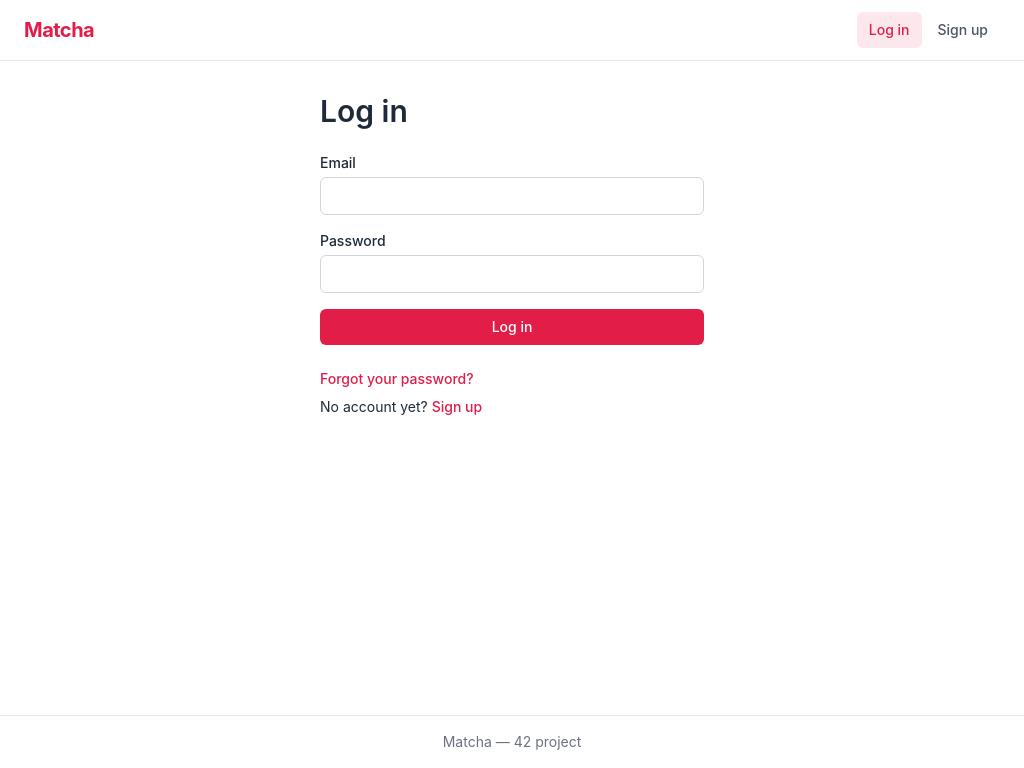
login › shows the backend error "Invalid credentials"
Step 1. Type "alice@example.com" into the field labelled "Email" → (512, 196), box x1=320 y1=177 x2=704 y2=215
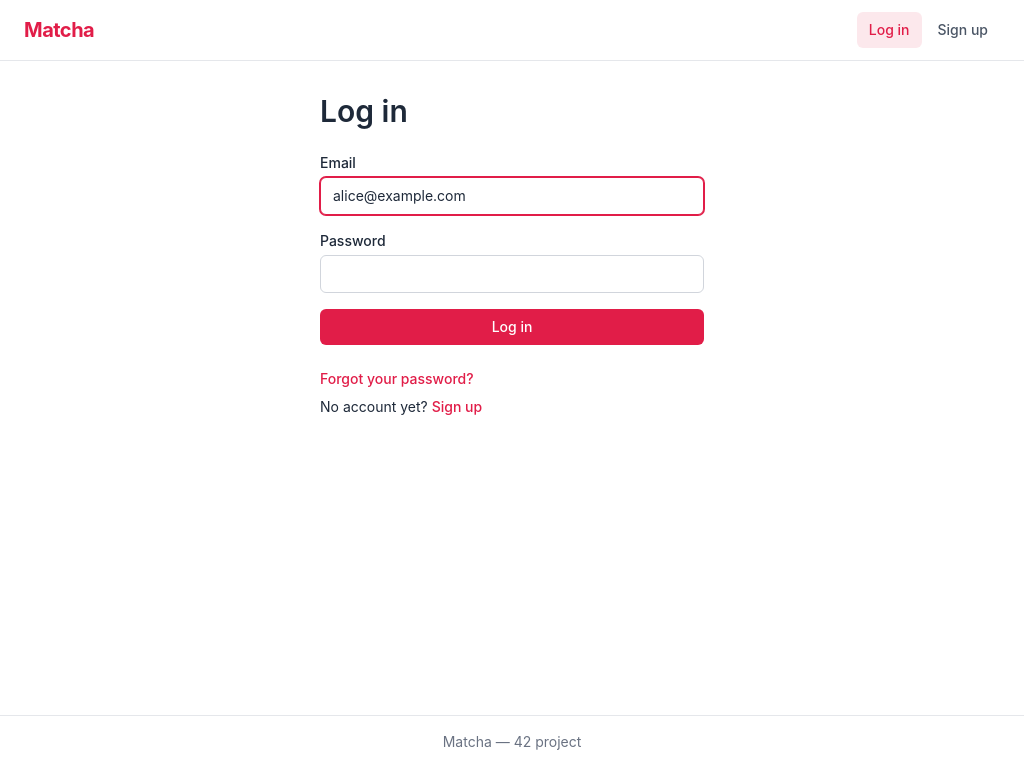
Step 2. Type "Wonder1and" into the password field labelled "Password" → (512, 274), box x1=320 y1=255 x2=704 y2=293
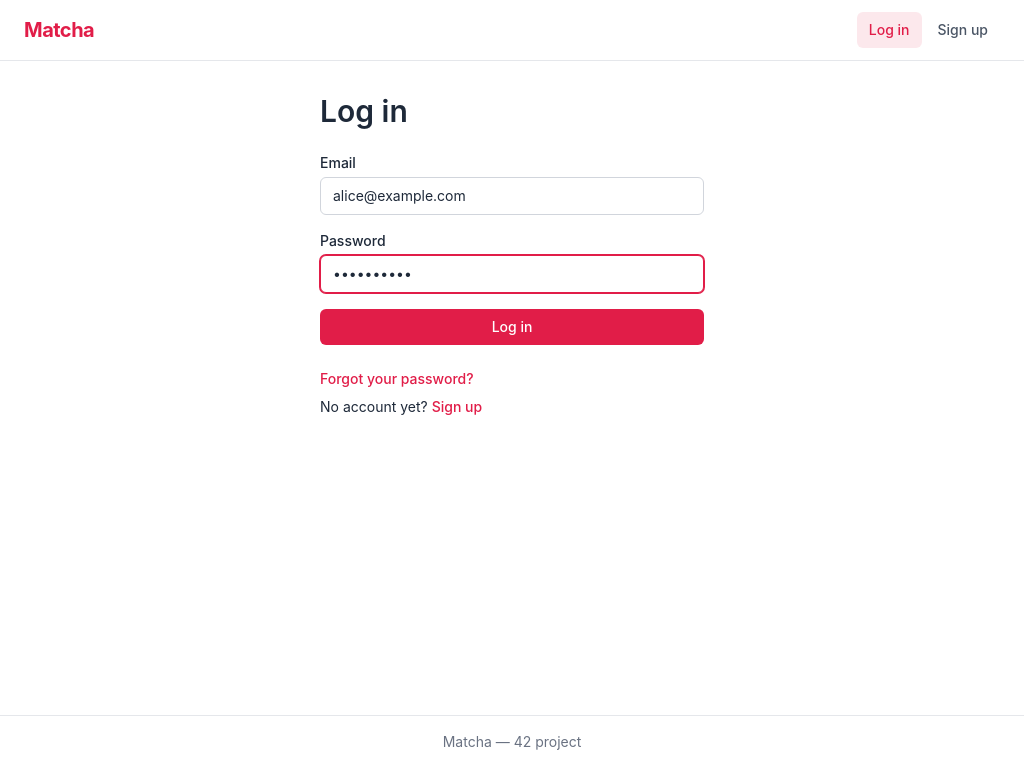
Step 3. Click the button "Log in" → (512, 327), box x1=320 y1=309 x2=704 y2=345
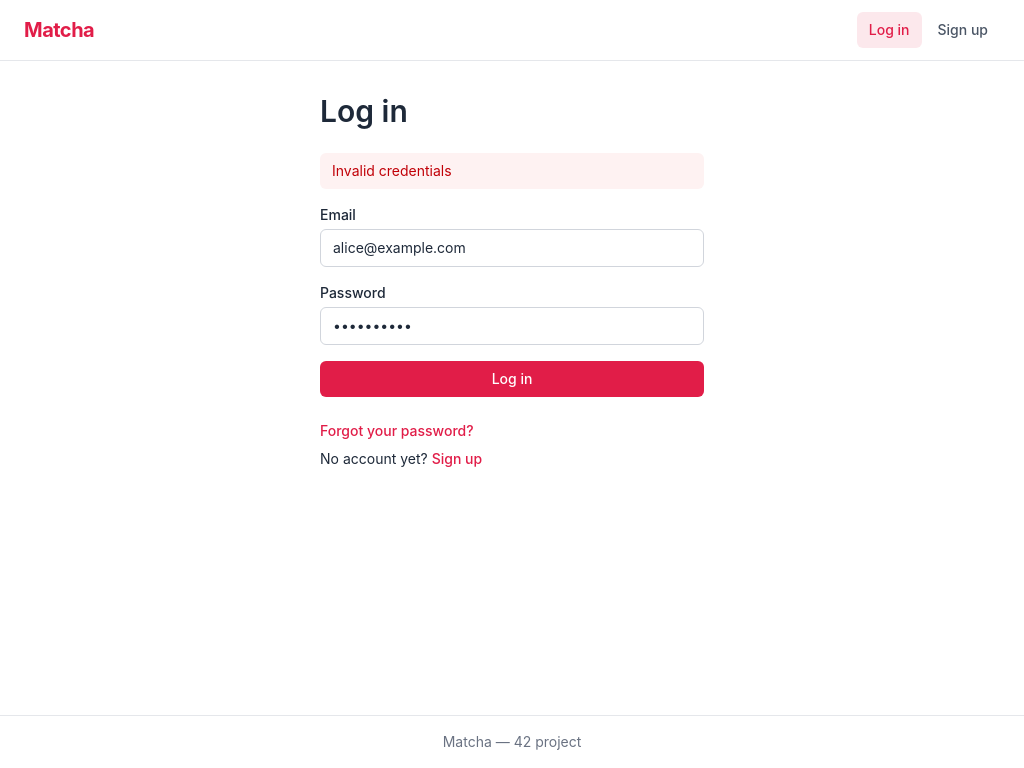
Expected: the heading "Log in" is shown, x1=320 y1=93 x2=408 y2=129
Expected: the message reads "Invalid credentials", x1=332 y1=162 x2=452 y2=179
